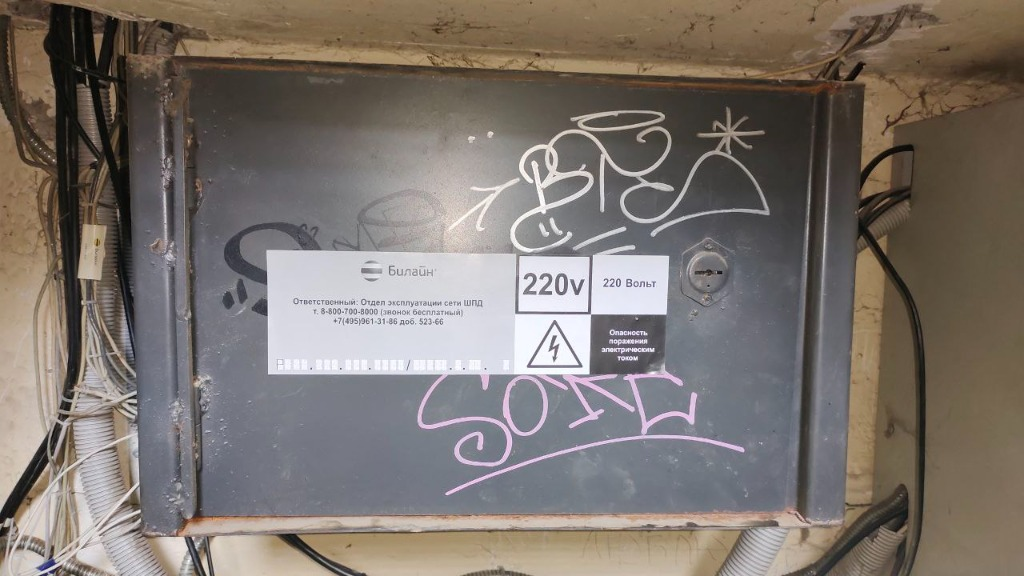e2-6u: (119, 48, 868, 545)
